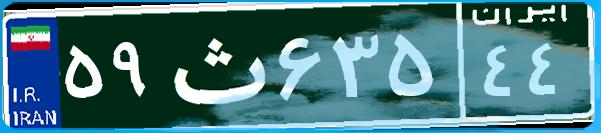3: (330, 28, 385, 110)
4: (475, 38, 525, 113), (525, 38, 570, 115)
5: (385, 28, 445, 110), (57, 26, 110, 107)
6: (273, 28, 330, 110)
9: (110, 28, 158, 105)
ث: (158, 15, 273, 115)
